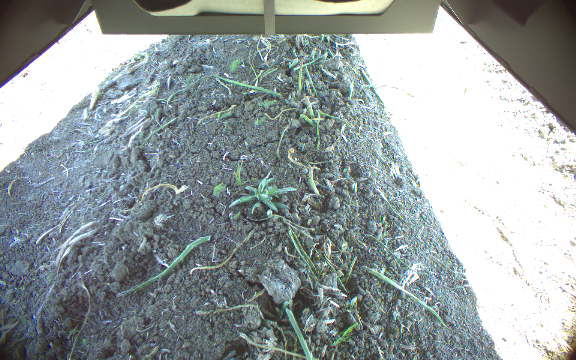aspa: (305, 163, 321, 197), (297, 58, 305, 92)
